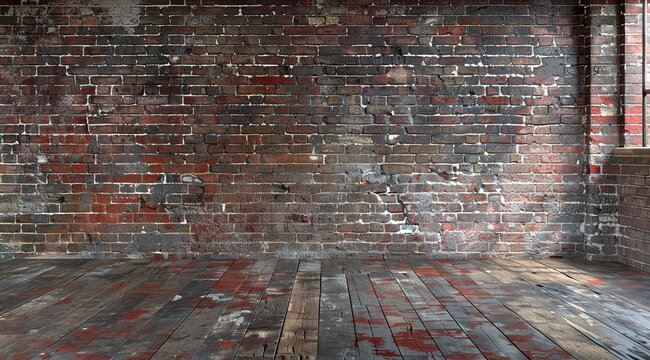Wall: (5, 7, 615, 252)
